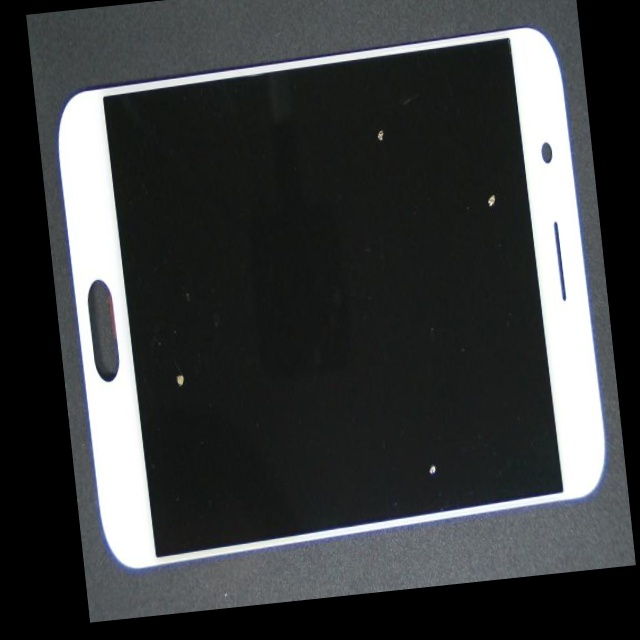stain: (247, 183, 625, 602), (177, 37, 551, 267), (272, 46, 605, 303), (63, 165, 243, 597)
